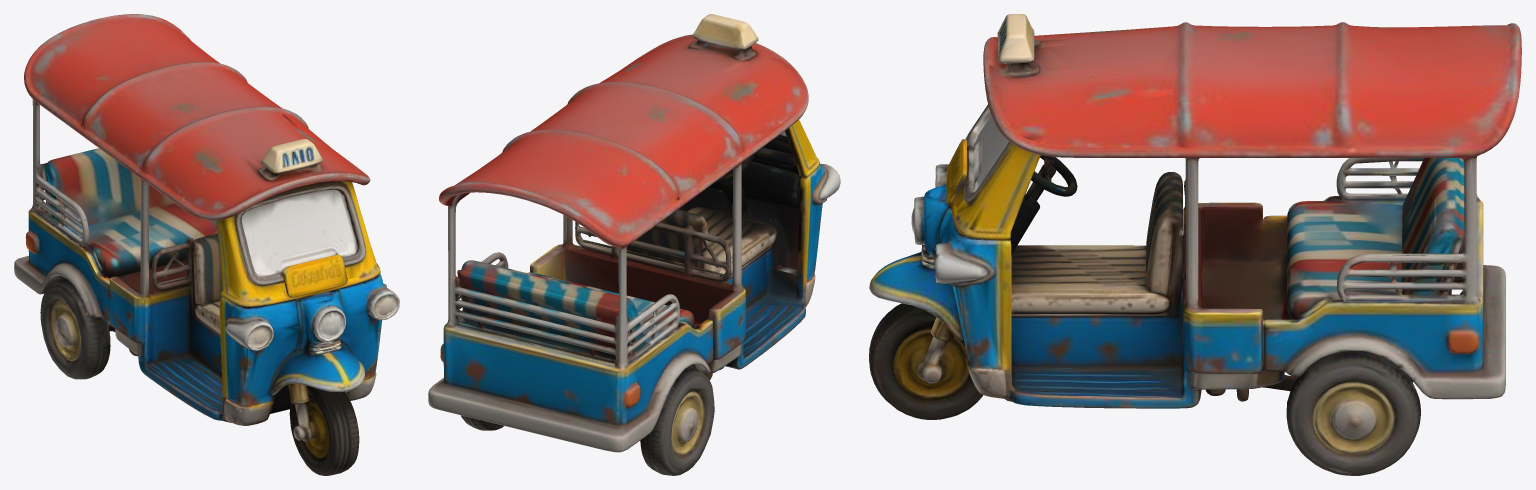
The model's file is tuktuk.glb.
3 views of the same model, side by side, from view 1: azimuth 30°, elevation 25°; view 2: azimuth 150°, elevation 25°; view 3: azimuth 270°, elevation 25° (orthographic). The views are drawn at different scales.
Parts seen in each view (by area): view 1: node_0; view 2: node_0; view 3: node_0.
Boxes of the visible parts, x1,y1,x2,y2 form: node_0: (14, 14, 399, 475); node_0: (428, 14, 840, 475); node_0: (869, 14, 1521, 475).
Size of the model in its own units: 0.4761 by 0.6911 by 1.04.
1 material, 1 textured.
